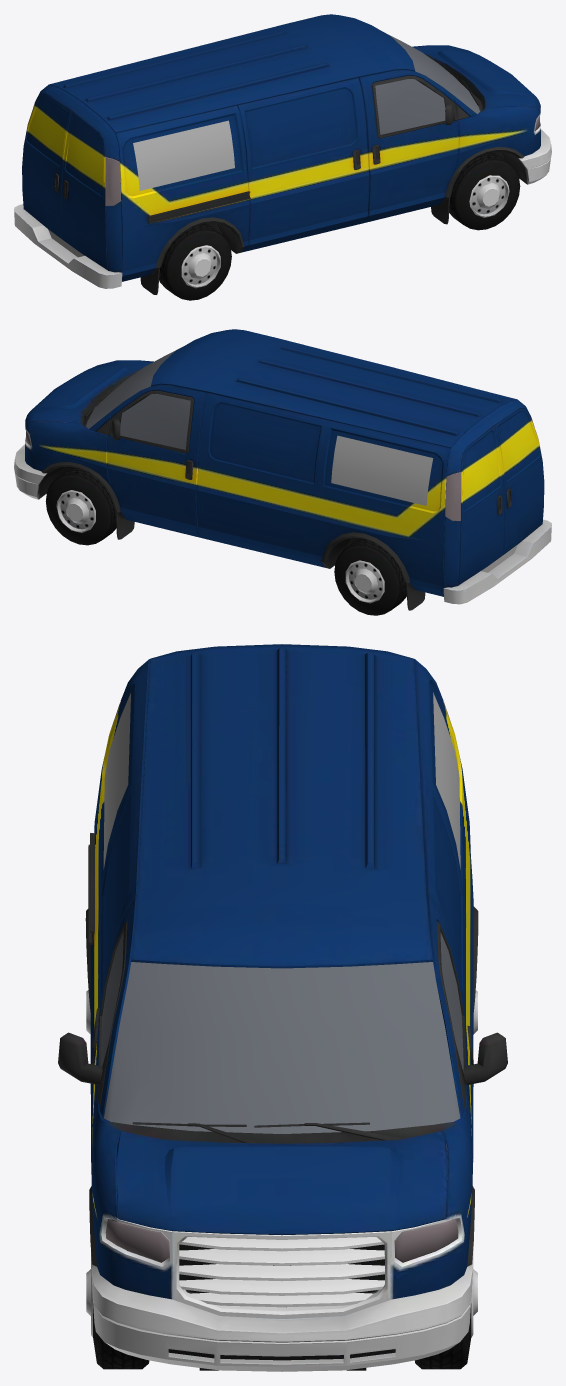
The model's file is civ-postvan.lod0.glb.
3 views of the same model, one above another, from view 1: azimuth 30°, elevation 25°; view 2: azimuth 150°, elevation 25°; view 3: azimuth 270°, elevation 25° (orthographic). The views are drawn at different scales.
Parts seen in each view (by area): view 1: postvan_postvan_0, postvan_postvan_glass_0; view 2: postvan_postvan_0, postvan_postvan_glass_0; view 3: postvan_postvan_0, postvan_postvan_glass_0.
Boxes of the visible parts, bbox=[...] form: postvan_postvan_0: bbox=[14, 14, 551, 300]; postvan_postvan_glass_0: bbox=[23, 32, 540, 205]; postvan_postvan_0: bbox=[14, 329, 551, 615]; postvan_postvan_glass_0: bbox=[25, 348, 542, 520]; postvan_postvan_0: bbox=[58, 644, 507, 1371]; postvan_postvan_glass_0: bbox=[100, 692, 463, 1262].
Bounding box in the file's own units: 5.34 × 1.98 × 2.19.
Materials: 2 (1 with a texture image).
